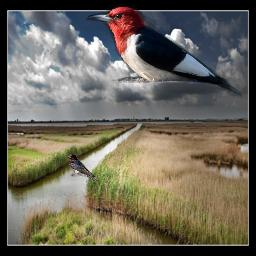Swallow: (67, 154, 100, 182)
Woodpecker: (84, 4, 242, 99)
